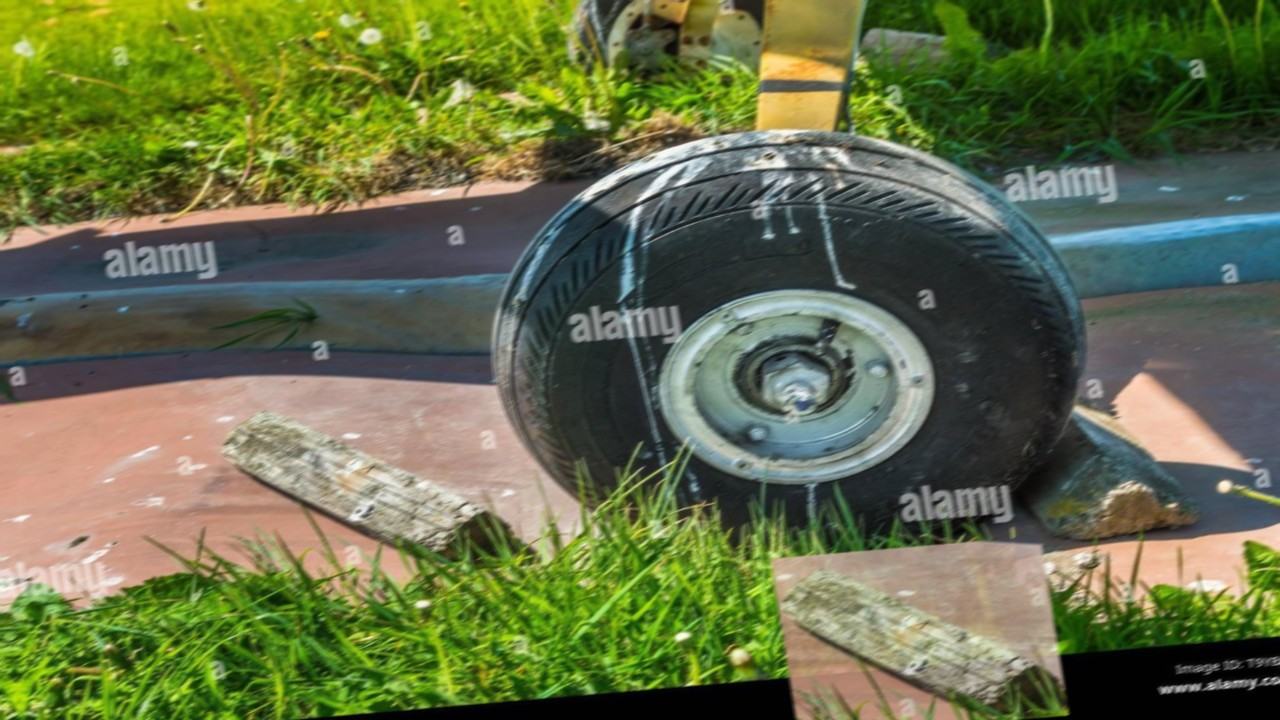chock: (211, 377, 520, 587), (770, 535, 1068, 720), (1004, 376, 1205, 549)
wheel: (459, 106, 1114, 566)
